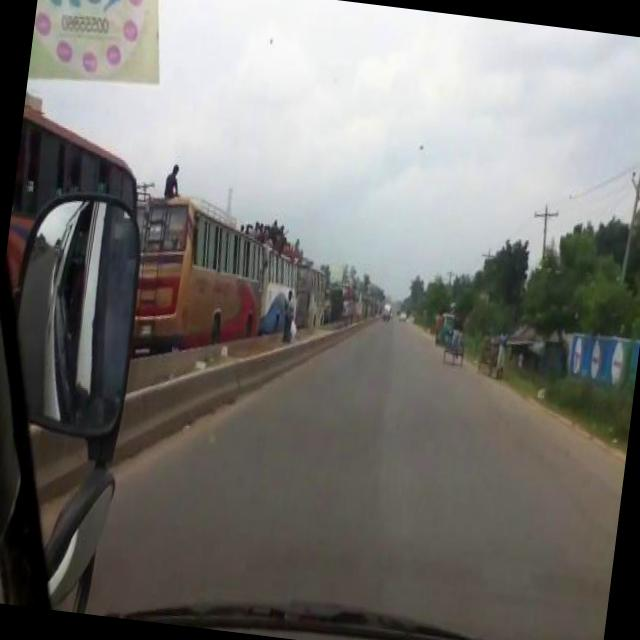bus: (118, 188, 280, 362), (254, 242, 305, 340), (288, 260, 329, 332)
